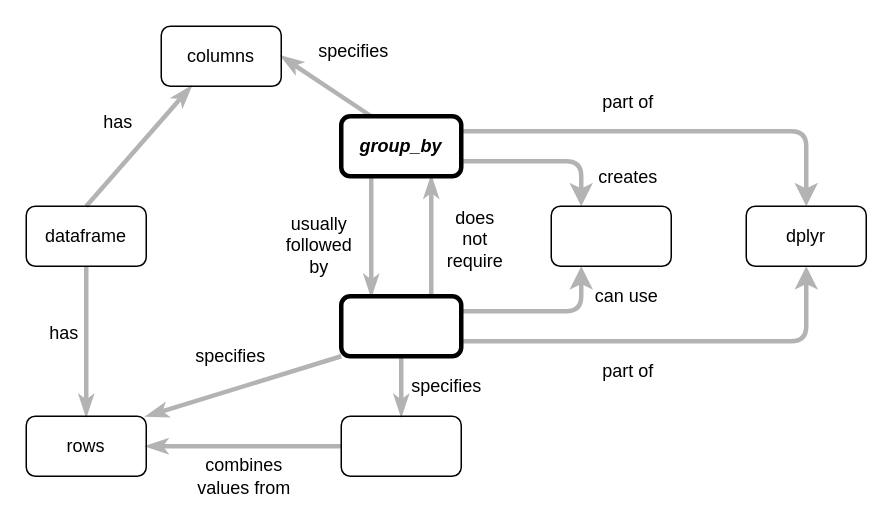
The diagram is 893 pixels wide and 524 high, and some of its shapes have lost their labels. Each missing label, with the centre of its shape:
"function" belongs at pixel 400 445.
"labels" belongs at pixel 610 235.
"summarize" belongs at pixel 400 325.
